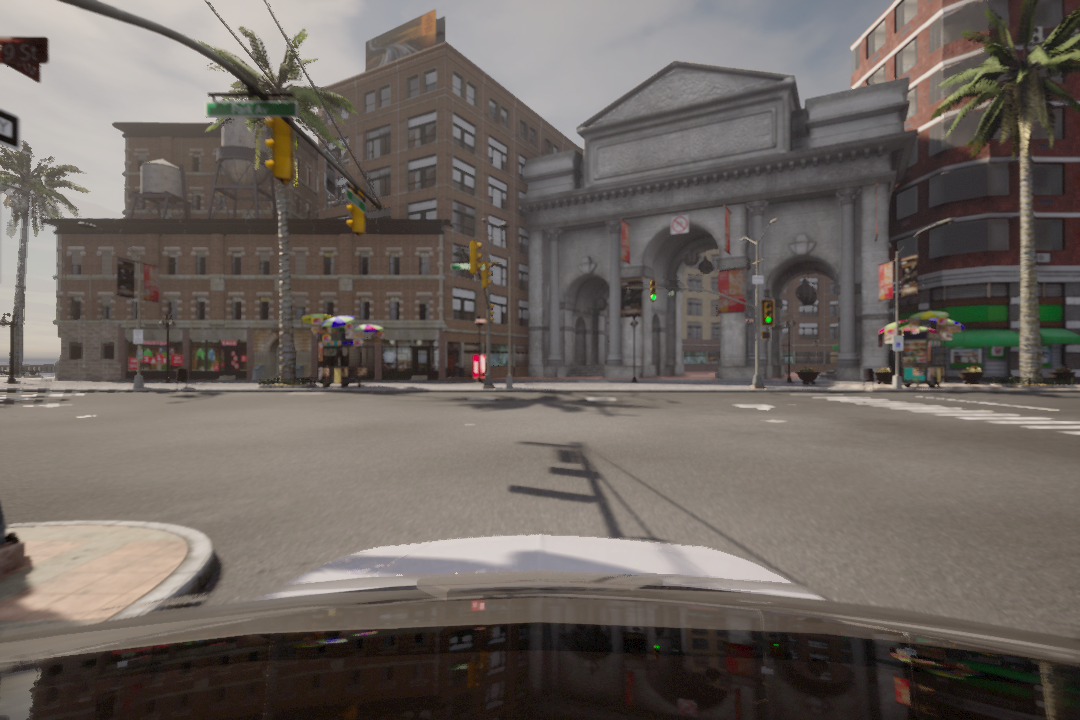TrafficLight: (764, 297, 774, 326), (647, 276, 658, 301)
TrafficSign: (670, 215, 690, 234)
